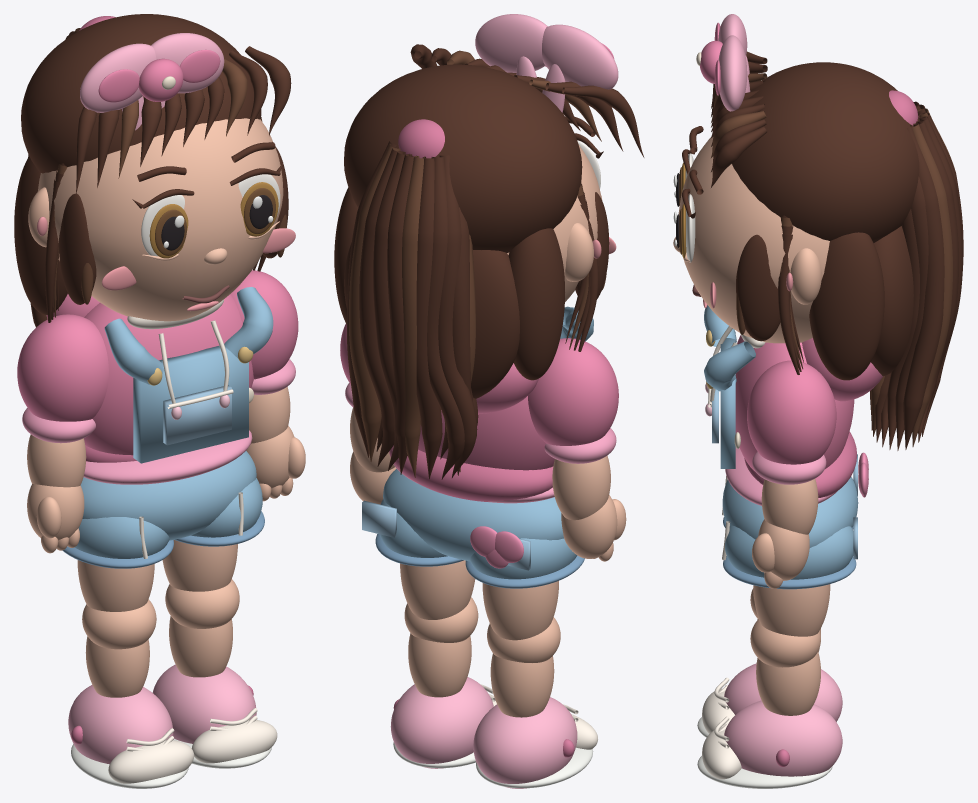
The model's file is hanna-free-r8.glb.
The picture shows the model from 3 angles, left to right: view 1: azimuth 30°, elevation 25°; view 2: azimuth 150°, elevation 25°; view 3: azimuth 270°, elevation 25°; orthographic projection. The views are drawn at different scales.
Parts seen in each view (by area): view 1: face-sculpt, crown-back, hoodie-puff-sleeve--1, denim-short-body, denim-bib, hoodie-body, pink-boot-upper--1, pink-boot-upper-1, hoodie-bottom-rib, hair-left-volume, hoodie-puff-sleeve-1, thigh-segment--1 (+53 smaller); view 2: crown-back, denim-short-body, hoodie-puff-sleeve--1, pink-boot-upper--1, hair-left-volume, pink-boot-upper-1, hair-back-length, high-wavy-ponytail-07, high-wavy-ponytail-08, hoodie-side-folds, hoodie-body, high-wavy-ponytail-06 (+40 smaller); view 3: crown-back, face-sculpt, hair-right-volume, hoodie-puff-sleeve-1, pink-boot-upper-1, high-wavy-ponytail-01, hair-back-length, hoodie-body, sideburn-1, denim-short-body, thigh-segment-1, shin-segment-1 (+32 smaller).
Part boxes in pixels (x1=…): face-sculpt: x1=37, y1=118, x2=283, y2=321; crown-back: x1=21, y1=14, x2=261, y2=173; hoodie-puff-sleeve--1: x1=17, y1=314, x2=108, y2=421; denim-short-body: x1=80, y1=451, x2=256, y2=540; denim-bib: x1=133, y1=346, x2=248, y2=463; hoodie-body: x1=84, y1=294, x2=253, y2=455; pink-boot-upper--1: x1=68, y1=685, x2=173, y2=764; pink-boot-upper-1: x1=152, y1=664, x2=256, y2=743; hoodie-bottom-rib: x1=83, y1=430, x2=252, y2=484; hair-left-volume: x1=14, y1=156, x2=67, y2=314; hoodie-puff-sleeve-1: x1=230, y1=270, x2=298, y2=379; thigh-segment--1: x1=77, y1=560, x2=154, y2=611; crown-back: x1=344, y1=64, x2=582, y2=252; denim-short-body: x1=383, y1=469, x2=563, y2=561; hoodie-puff-sleeve--1: x1=528, y1=338, x2=618, y2=445; pink-boot-upper--1: x1=473, y1=697, x2=577, y2=788; hair-left-volume: x1=508, y1=228, x2=564, y2=380; pink-boot-upper-1: x1=390, y1=677, x2=493, y2=768; hair-back-length: x1=344, y1=243, x2=519, y2=398; high-wavy-ponytail-07: x1=416, y1=156, x2=442, y2=479; high-wavy-ponytail-08: x1=427, y1=157, x2=464, y2=479; hoodie-side-folds: x1=389, y1=445, x2=553, y2=501; hoodie-body: x1=418, y1=396, x2=554, y2=470; high-wavy-ponytail-06: x1=402, y1=156, x2=425, y2=477; crown-back: x1=732, y1=62, x2=919, y2=242; face-sculpt: x1=678, y1=137, x2=829, y2=343; hair-right-volume: x1=809, y1=232, x2=884, y2=380; hoodie-puff-sleeve-1: x1=747, y1=360, x2=836, y2=464; pink-boot-upper-1: x1=724, y1=700, x2=842, y2=776; high-wavy-ponytail-01: x1=903, y1=125, x2=944, y2=449; hair-back-length: x1=871, y1=226, x2=913, y2=376; hoodie-body: x1=735, y1=335, x2=854, y2=471; sideburn-1: x1=736, y1=234, x2=780, y2=341; denim-short-body: x1=722, y1=476, x2=858, y2=547; thigh-segment-1: x1=753, y1=584, x2=830, y2=636; shin-segment-1: x1=756, y1=651, x2=820, y2=715.
Size of the model in its own units: 0.842 by 2.23 by 0.8211.
